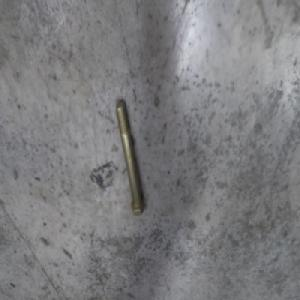Bolt: (117, 97, 146, 214)
